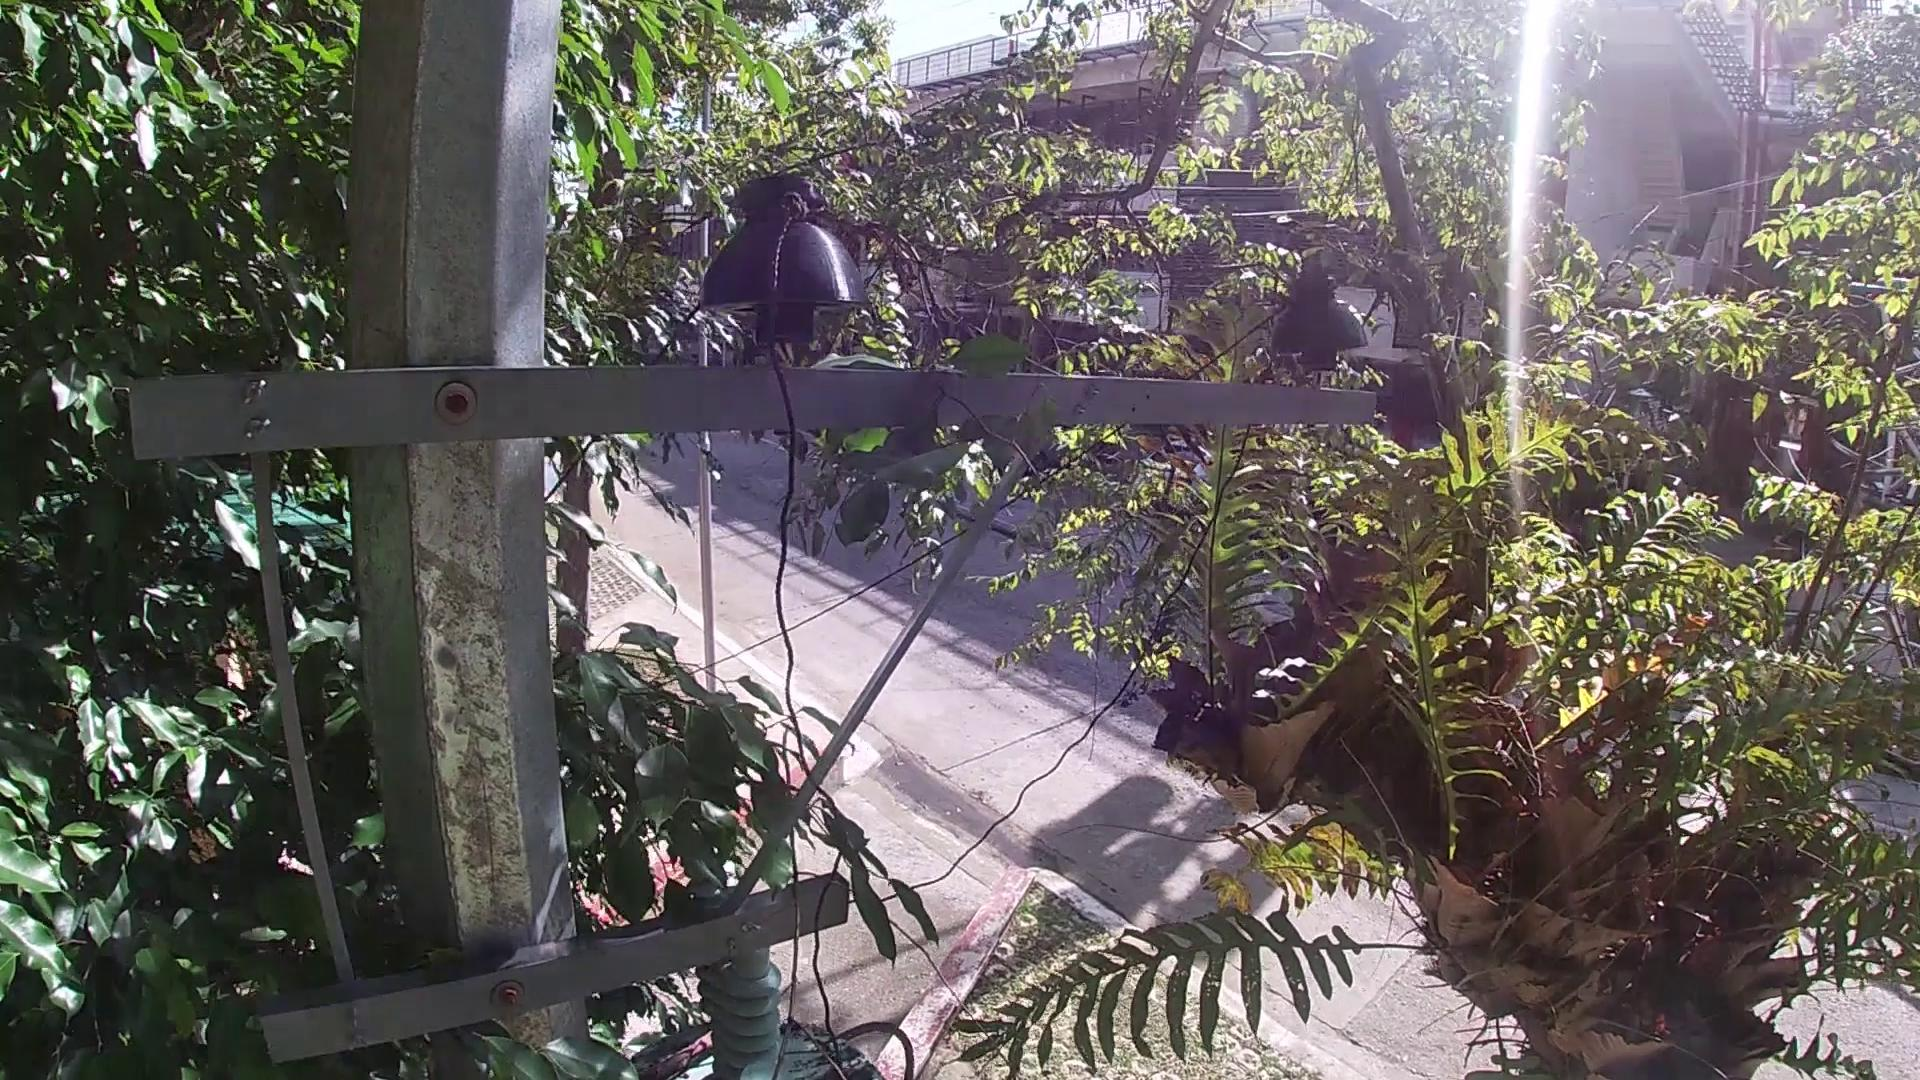tree branch: (670, 698, 840, 1080), (640, 1033, 719, 1080)
